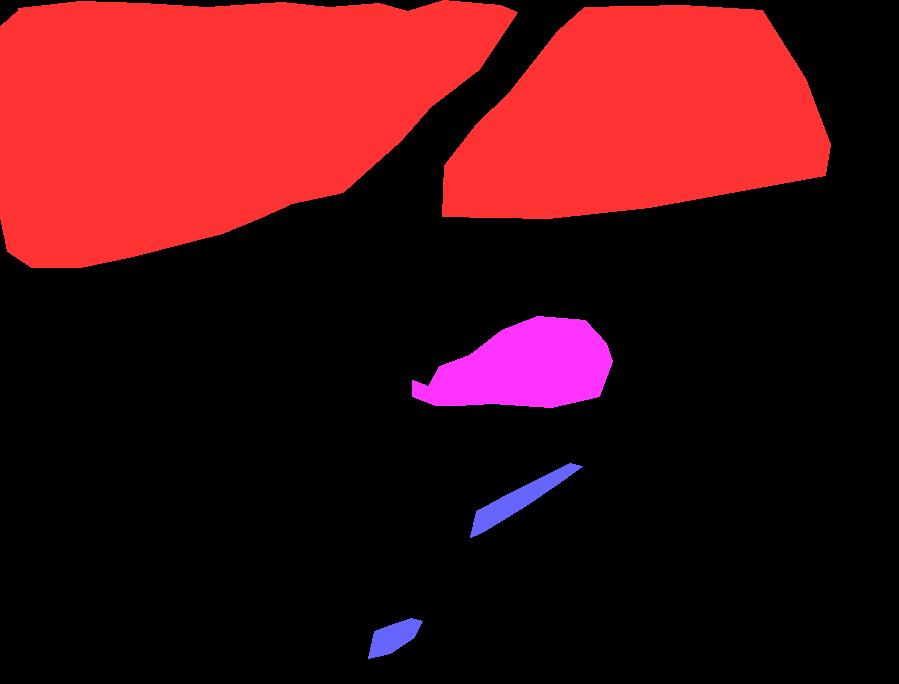Dent: (412, 316, 612, 407)
Missing part: (0, 0, 517, 267), (442, 5, 830, 218)
Scratch: (470, 463, 582, 537), (368, 618, 422, 658), (501, 339, 546, 378)
